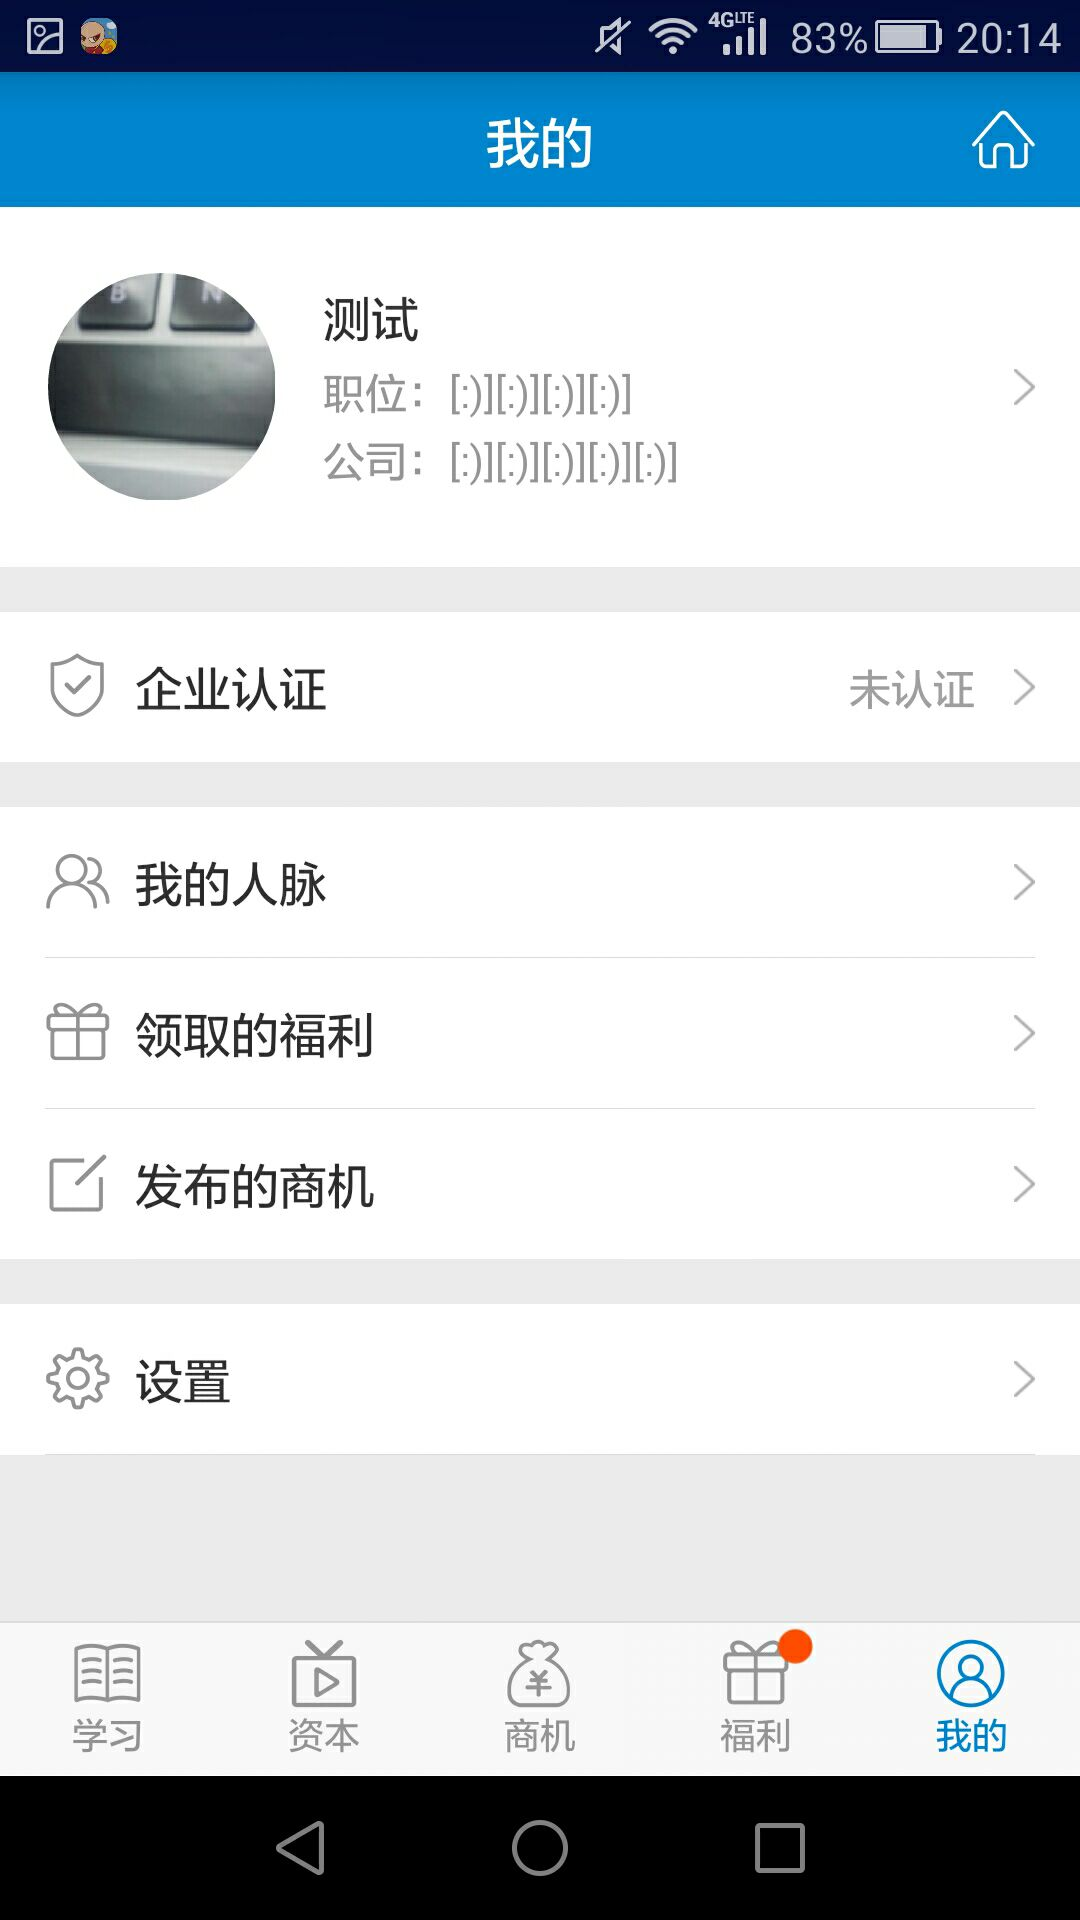imgbutton: (951, 78, 1063, 202)
